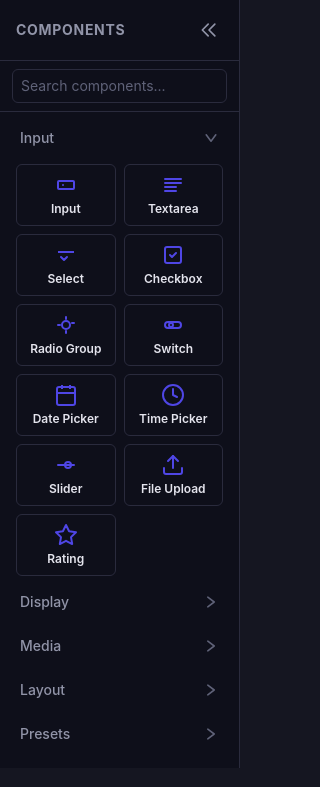
ComponentPalette › Recent components (IMP-002) › shows recent section after double-clicking a component
The width and height of the screenshot is (320, 787).
Note: Double-click a component in the expanded Input category
Double-click the element with test id "palette-item-INPUT" at (66, 195), box [16, 164, 116, 226]
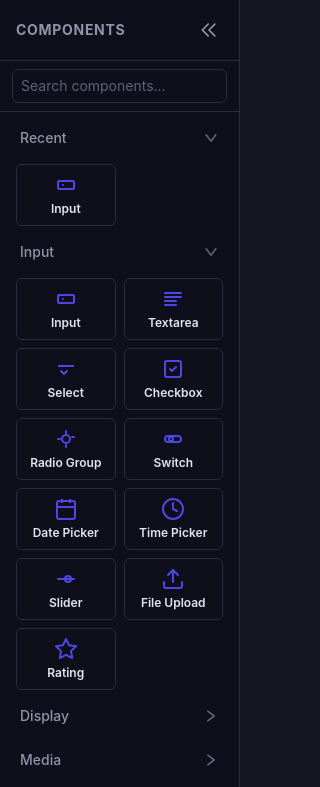
Result: the text "Recent" is shown at [20, 128, 67, 148]
